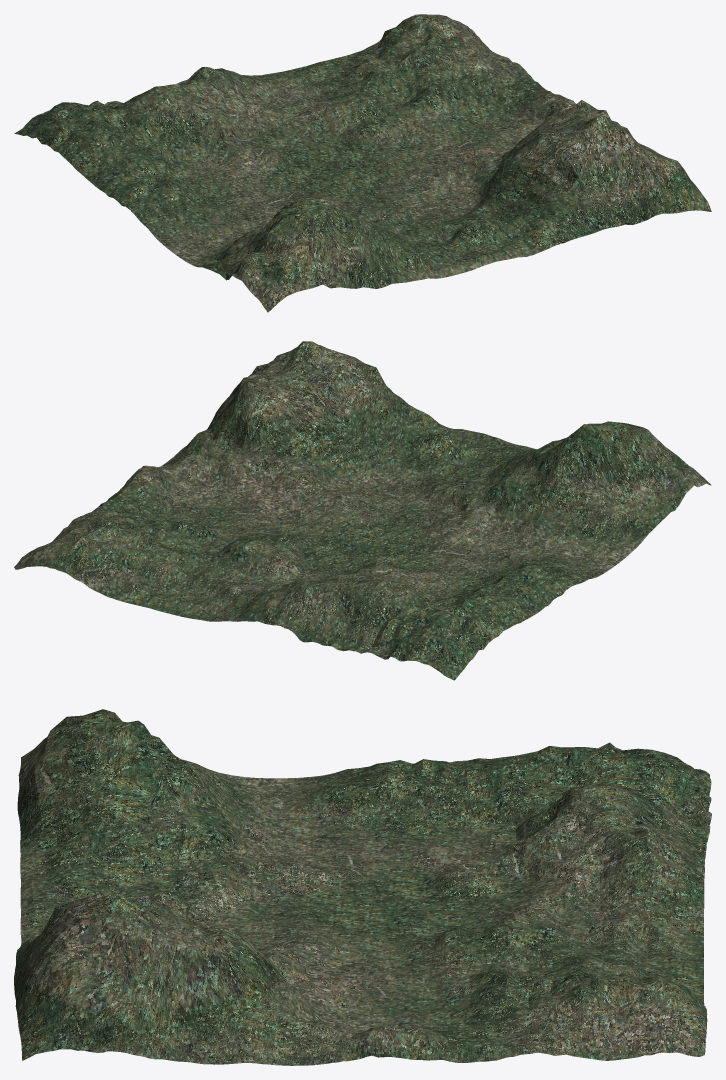
File: azylworld4comp1.glb
3 renders of one model, top to bottom at view 1: azimuth 30°, elevation 25°; view 2: azimuth 150°, elevation 25°; view 3: azimuth 270°, elevation 25°, orthographic. The views are drawn at different scales.
Visible parts, largest first — view 1: Bake; view 2: Bake; view 3: Bake.
Boxes of the visible parts, x1,y1,x2,y2 form: Bake: (14,14,711,312); Bake: (14,341,711,680); Bake: (14,709,711,1065).
Bounding box in the file's own units: 262 × 51.17 × 262.
Materials: 1 (1 with a texture image).
